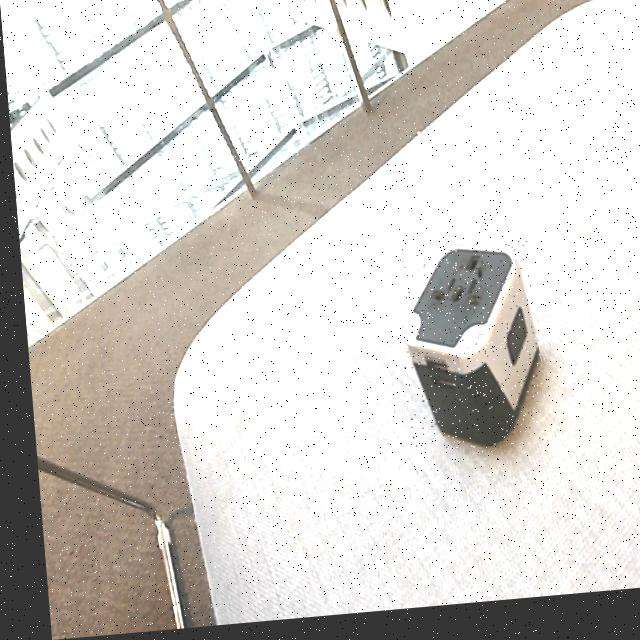adapter: (390, 247, 538, 460)
